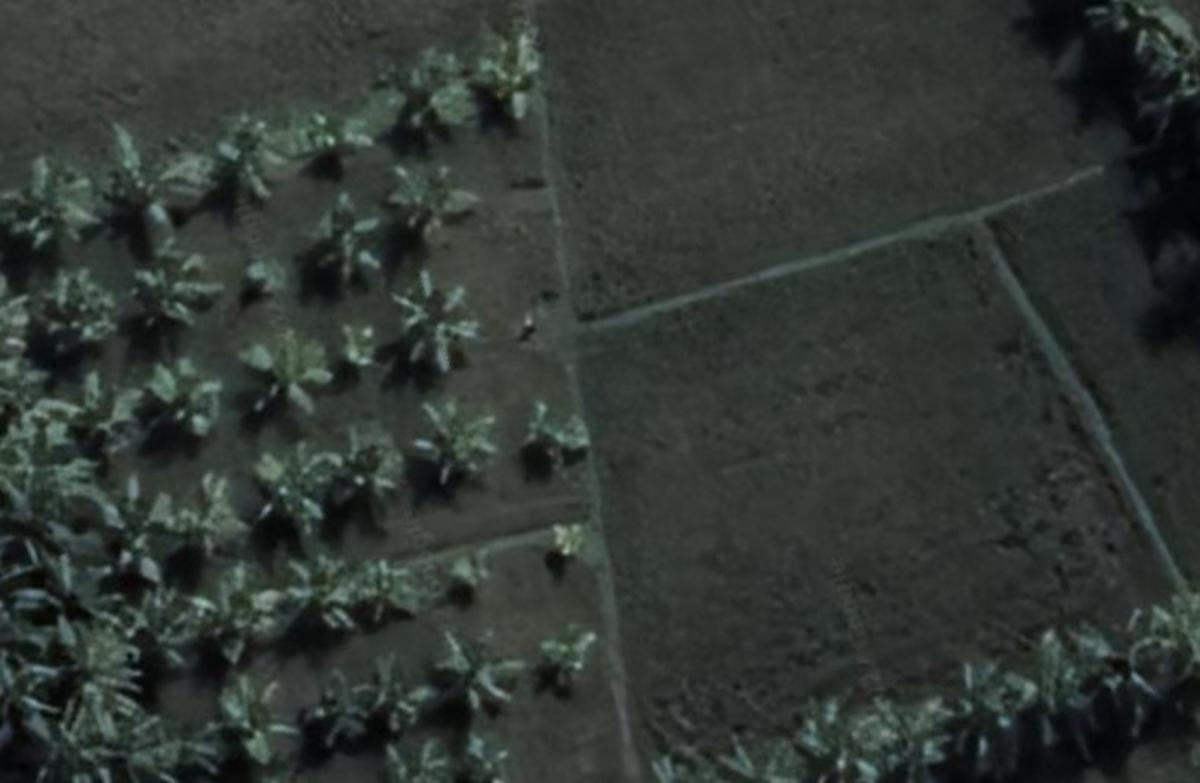coconut: (379, 270, 500, 377), (97, 122, 207, 229), (376, 156, 493, 245), (235, 326, 347, 418), (4, 151, 100, 250), (242, 441, 339, 532), (409, 393, 497, 490), (122, 241, 221, 327), (94, 479, 183, 573), (204, 561, 286, 663), (21, 267, 119, 352), (436, 623, 523, 717), (213, 672, 303, 761), (304, 197, 391, 289), (144, 359, 233, 440), (332, 411, 411, 499), (226, 113, 306, 197), (280, 552, 359, 637), (304, 673, 386, 754), (171, 470, 253, 550), (479, 45, 567, 109), (359, 652, 433, 726), (359, 558, 426, 628)
